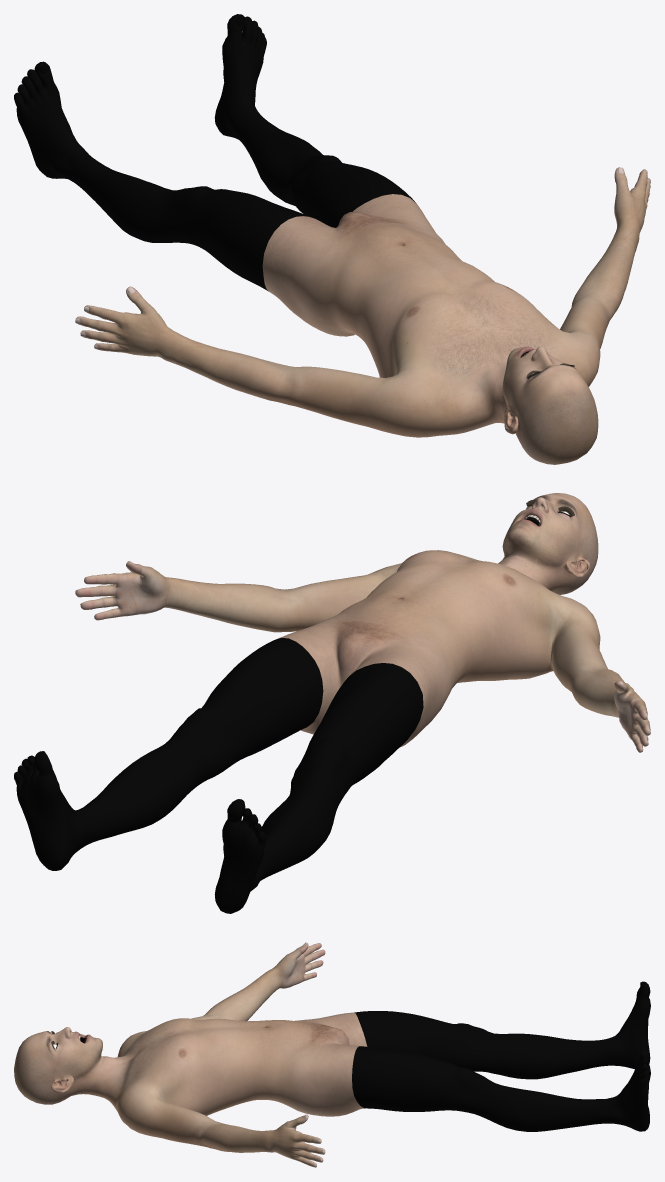
The model's file is testux.obj.
3 views of the same model, one above another, from view 1: azimuth 30°, elevation 25°; view 2: azimuth 150°, elevation 25°; view 3: azimuth 270°, elevation 25° (orthographic). The views are drawn at different scales.
Visible parts, largest first — view 1: Genesis8Male; view 2: Genesis8Male; view 3: Genesis8Male.
Boxes of the visible parts, bbox=[...] form: Genesis8Male: bbox=[14, 14, 650, 464]; Genesis8Male: bbox=[14, 493, 650, 913]; Genesis8Male: bbox=[14, 942, 650, 1167].
Size of the model in its own units: 2.71 by 0.6018 by 3.62.
